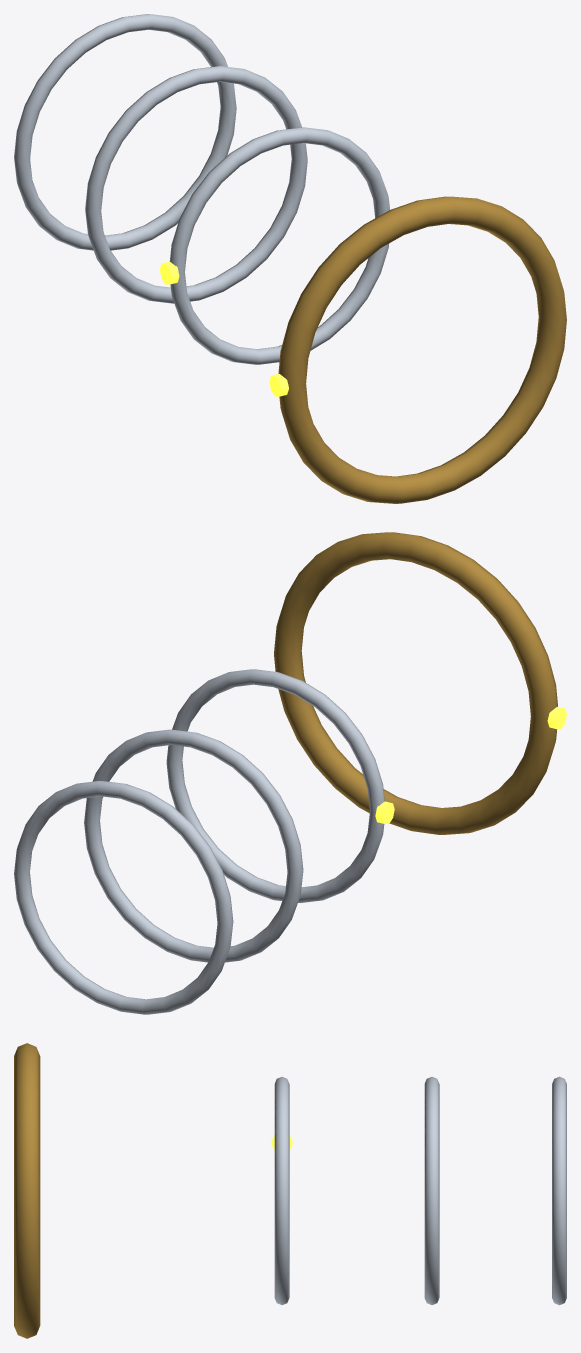
Rendered from tower_nova_damage_s3.glb.
3 renders of one model, top to bottom at view 1: azimuth 30°, elevation 25°; view 2: azimuth 150°, elevation 25°; view 3: azimuth 270°, elevation 25°, orthographic. The views are drawn at different scales.
Parts seen in each view (by area): view 1: nova_pressure_ring, nova_tube_band1.02, nova_tube_band1.36, nova_tube_band0.62; view 2: nova_pressure_ring, nova_tube_band1.36, nova_tube_band1.02, nova_tube_band0.62; view 3: nova_pressure_ring, nova_tube_band1.02, nova_tube_band0.62, nova_tube_band1.36.
Boxes of the visible parts, left/top/right/bottom form: nova_pressure_ring: left=278, top=196, right=566, bottom=503; nova_tube_band1.02: left=85, top=66, right=307, bottom=303; nova_tube_band1.36: left=14, top=14, right=236, bottom=250; nova_tube_band0.62: left=169, top=127, right=389, bottom=364; nova_pressure_ring: left=274, top=532, right=557, bottom=834; nova_tube_band1.36: left=14, top=781, right=233, bottom=1014; nova_tube_band1.02: left=84, top=729, right=303, bottom=962; nova_tube_band0.62: left=166, top=669, right=384, bottom=902; nova_pressure_ring: left=14, top=1043, right=40, bottom=1338; nova_tube_band1.02: left=424, top=1077, right=439, bottom=1304; nova_tube_band0.62: left=274, top=1077, right=289, bottom=1304; nova_tube_band1.36: left=552, top=1076, right=566, bottom=1305.
Bounding box in the file's own units: 0.801 × 0.79 × 1.47.
